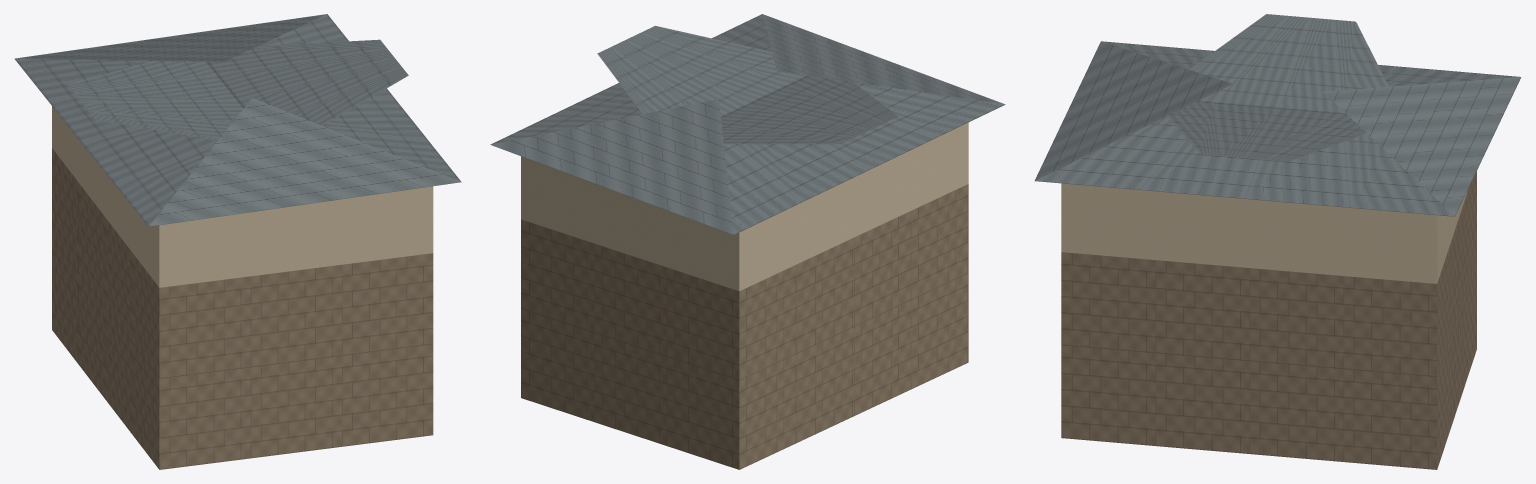
The model's file is bld_c-22_-21_806.gltf.
The picture shows the model from 3 angles, left to right: view 1: azimuth 30°, elevation 25°; view 2: azimuth 150°, elevation 25°; view 3: azimuth 270°, elevation 25°; orthographic projection. The views are drawn at different scales.
Parts seen in each view (by area): view 1: bld_c-22_-21_806; view 2: bld_c-22_-21_806; view 3: bld_c-22_-21_806.
Boxes of the visible parts, bbox=[...] form: bld_c-22_-21_806: bbox=[14, 14, 461, 469]; bld_c-22_-21_806: bbox=[490, 14, 1005, 469]; bld_c-22_-21_806: bbox=[1034, 14, 1521, 469].
Size of the model in its own units: 9.11 by 7.4 by 10.68.
3 materials, 3 textured.
